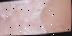plaque psoriasis: (0, 0, 65, 36)
